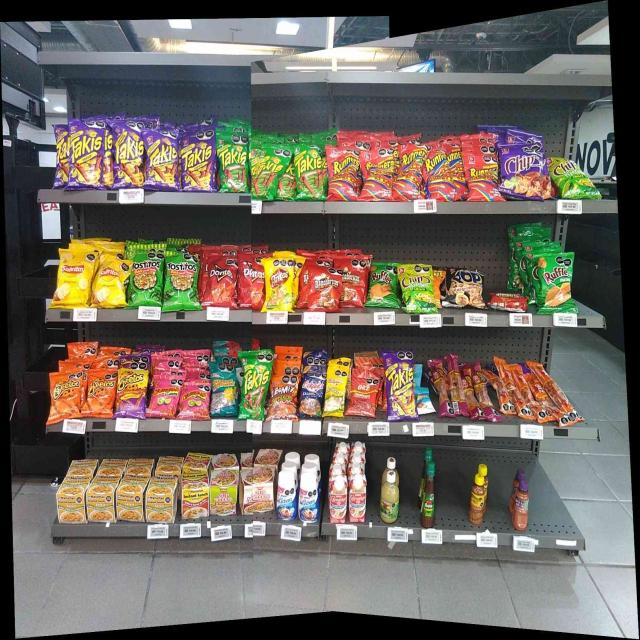bitzAlmendras: (417, 388, 432, 412)
bitzEnchilado90: (351, 376, 376, 414)
bitzEnchilado95: (495, 356, 575, 422)
bitzHabanero: (450, 355, 463, 414), (436, 358, 448, 414), (477, 372, 489, 419), (465, 372, 475, 418)
bokadosCacahuates: (303, 365, 322, 416)
botaneraChilito: (468, 474, 484, 523)
cheetosFlaminHot: (117, 364, 145, 418)
cheetosOriginal: (52, 372, 80, 418), (86, 370, 114, 416)
chipsFuego: (503, 146, 541, 196)
chipsPapatinas: (404, 266, 434, 312), (556, 158, 589, 197)
churrumais: (180, 381, 209, 417), (152, 380, 177, 415)
delPrimoSalsa: (380, 471, 399, 522)
doritosNacho: (209, 256, 236, 305), (240, 256, 265, 308)
fritosLimon: (266, 258, 292, 310)
leoMix: (270, 374, 296, 419)
maruchanPollo: (58, 477, 84, 524), (146, 478, 176, 518), (88, 478, 115, 521), (118, 478, 143, 520)
maruchanRes: (180, 473, 208, 519)
nestleCarnation: (329, 476, 347, 522), (349, 475, 366, 522)
nestleLechera: (248, 468, 275, 510), (299, 474, 319, 522), (277, 472, 296, 518)
nissinCamaron: (211, 471, 238, 514)
popKarameladas: (446, 268, 484, 308)
rancheritos: (310, 268, 339, 310), (342, 256, 365, 306), (492, 292, 524, 311)
rufflesQueso: (538, 256, 572, 311), (371, 264, 397, 306)
runners: (362, 148, 392, 199), (466, 155, 498, 202), (328, 146, 356, 199), (426, 147, 451, 200), (398, 145, 422, 199)
sabritasOriginal: (59, 251, 90, 306), (98, 257, 126, 304)
salsaBufalo: (420, 461, 435, 527)
semillasCalabaza: (327, 367, 344, 414)
semillasGirasol: (211, 363, 236, 417)
tajinDulce: (512, 480, 529, 529)
takisFuego: (69, 119, 102, 188), (112, 120, 143, 187), (146, 128, 178, 190), (182, 130, 214, 190), (387, 355, 415, 419)
takisOriginal: (220, 132, 248, 192), (242, 353, 266, 417), (296, 148, 322, 200), (254, 146, 279, 200)
tostitos: (166, 254, 198, 305), (132, 252, 162, 304)
